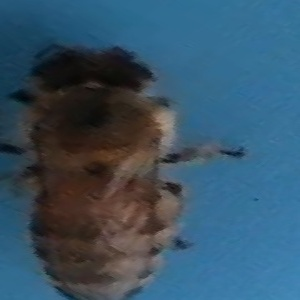bee: (3, 41, 250, 300)
